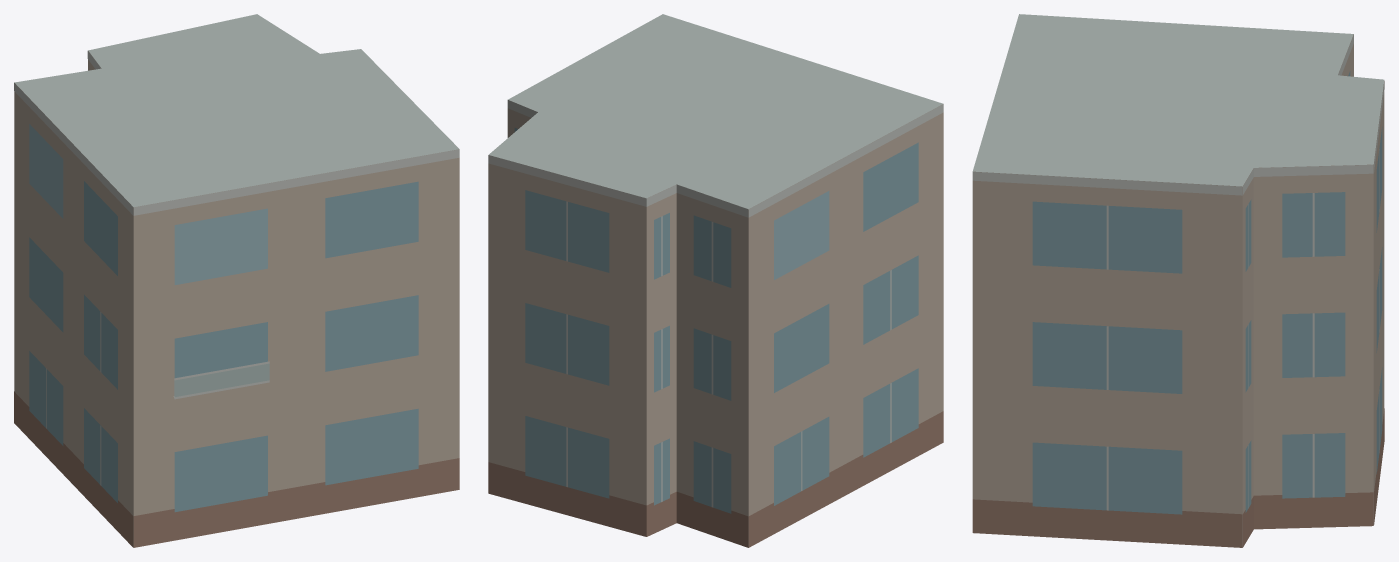
Rendered from survey-upis-32489850.glb.
3 renders of one model, left to right at view 1: azimuth 30°, elevation 25°; view 2: azimuth 150°, elevation 25°; view 3: azimuth 270°, elevation 25°, orthographic. The views are drawn at different scales.
Visible parts, largest first — view 1: survey-upis-32489850.tmp; view 2: survey-upis-32489850.tmp; view 3: survey-upis-32489850.tmp.
Boxes of the visible parts, bbox=[...] form: survey-upis-32489850.tmp: bbox=[14, 14, 459, 547]; survey-upis-32489850.tmp: bbox=[488, 14, 943, 547]; survey-upis-32489850.tmp: bbox=[972, 14, 1384, 547].
Size of the model in its own units: 9.94 by 9.7 by 10.03.
